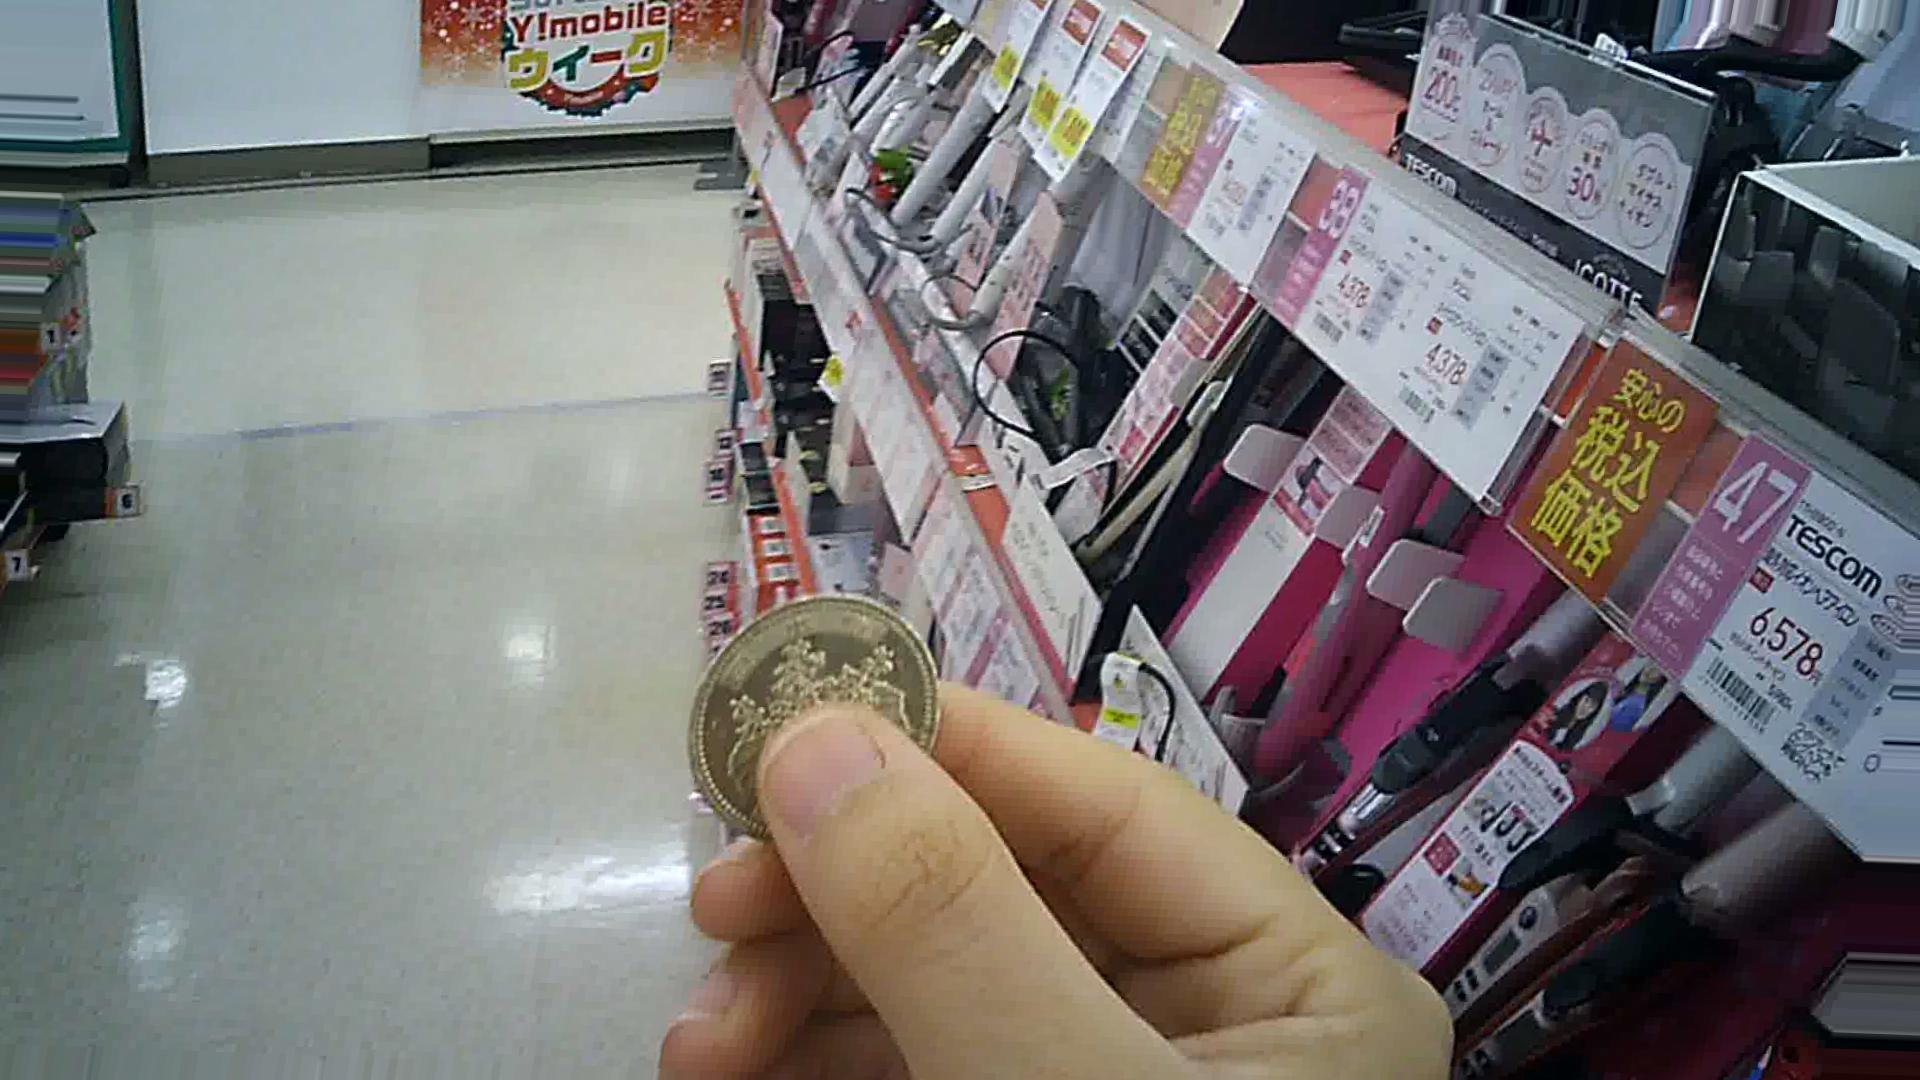500 Yen: (670, 582, 938, 828)
